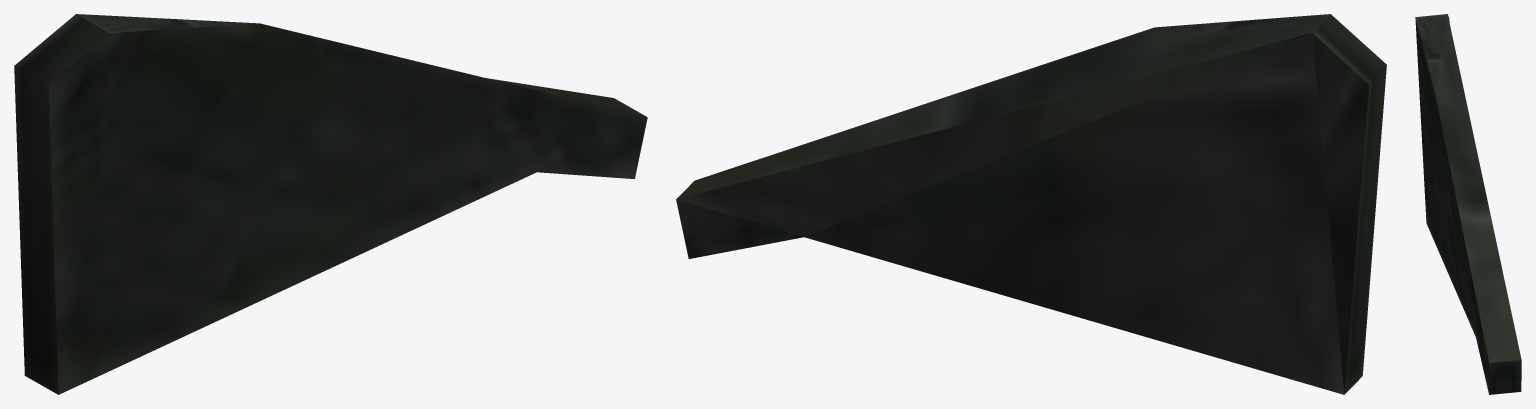
File: vehicle_uni_carrier_blow_piece11.glb
3 views of the same model, side by side, from view 1: azimuth 30°, elevation 25°; view 2: azimuth 150°, elevation 25°; view 3: azimuth 270°, elevation 25° (orthographic). The views are drawn at different scales.
Bounding box in the file's own units: 30.68 × 15.83 × 6.93.
Materials: 1 (1 with a texture image).
